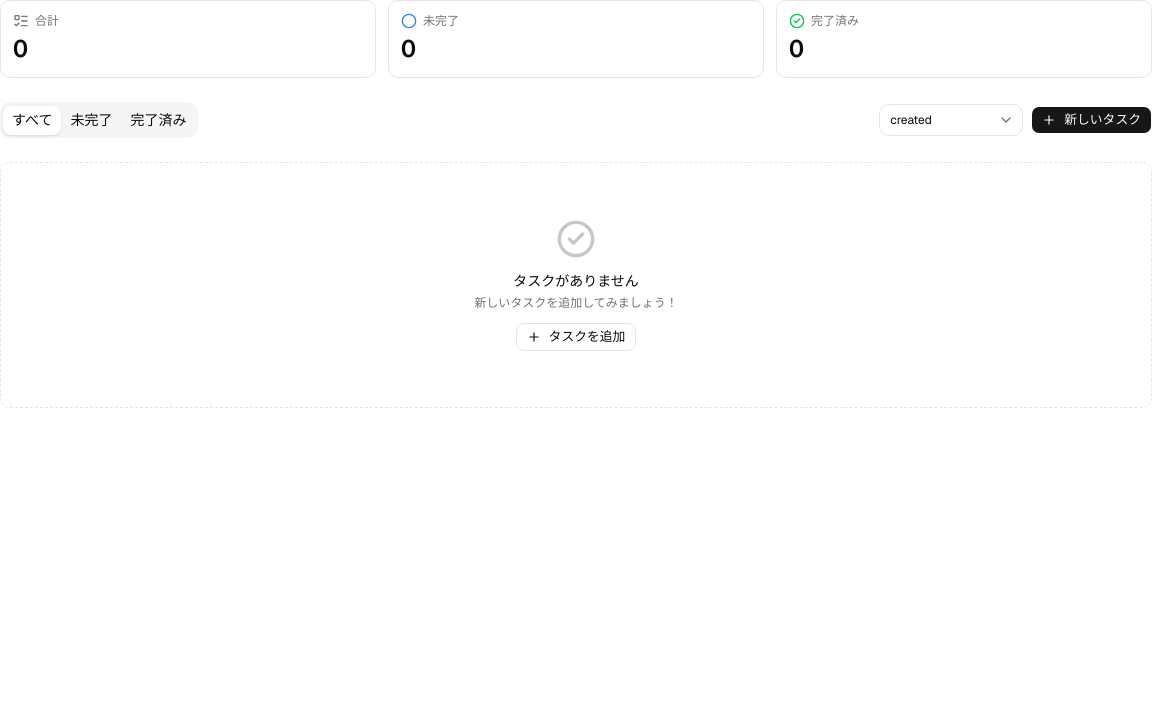
Scenario: TodoList › "新しいタスク" ボタンをクリックすると追加フォームが開く
What coordinates should you click on to do the following:
click the button "新しいタスク"
I would click on:
 (1092, 120)
Its box is [1031, 106, 1151, 134].
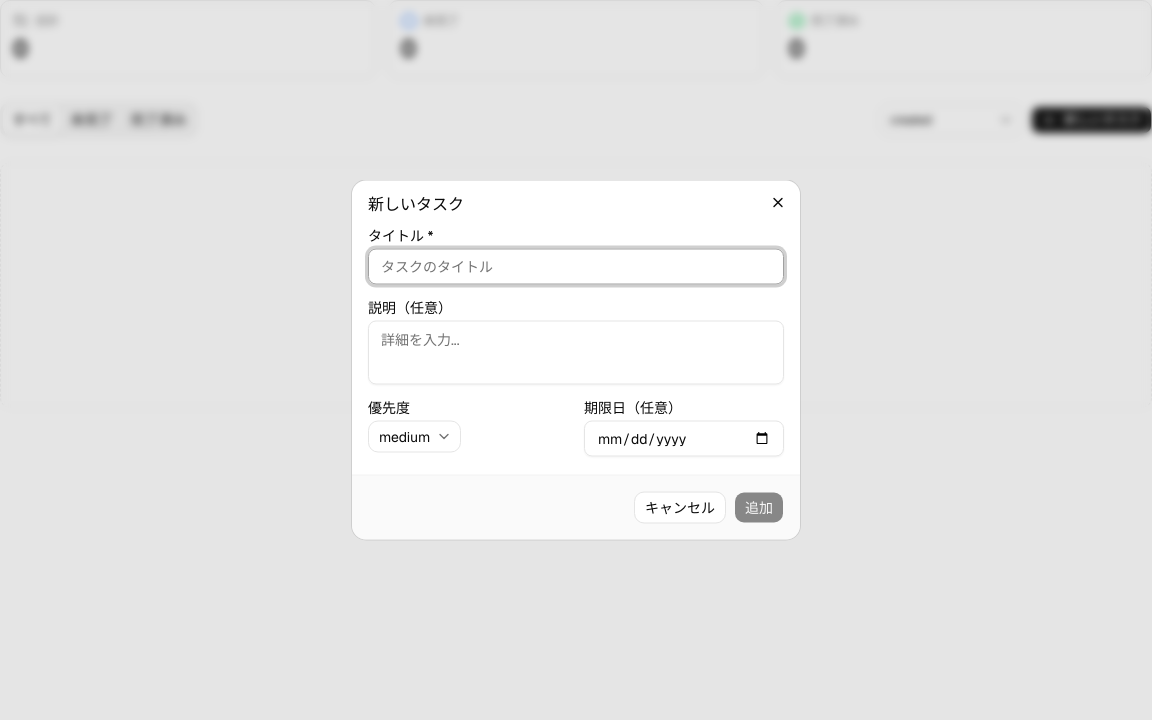
Result: the dialog is shown at [352, 180, 800, 540]
